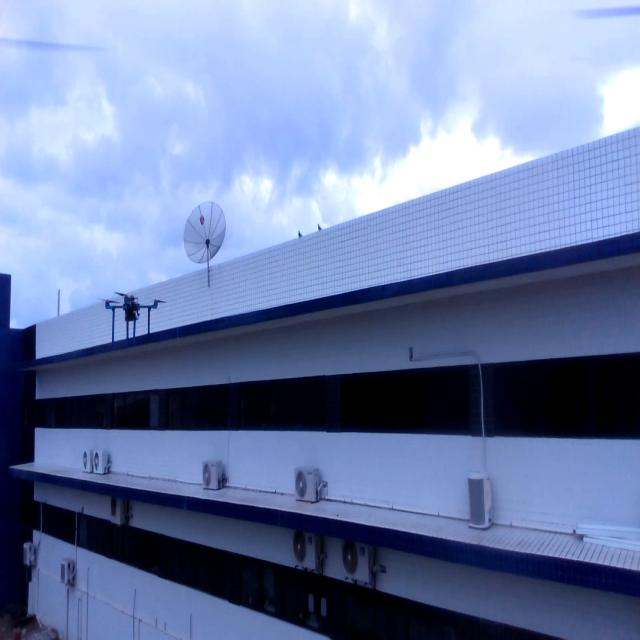-uav-: (94, 280, 168, 354)
